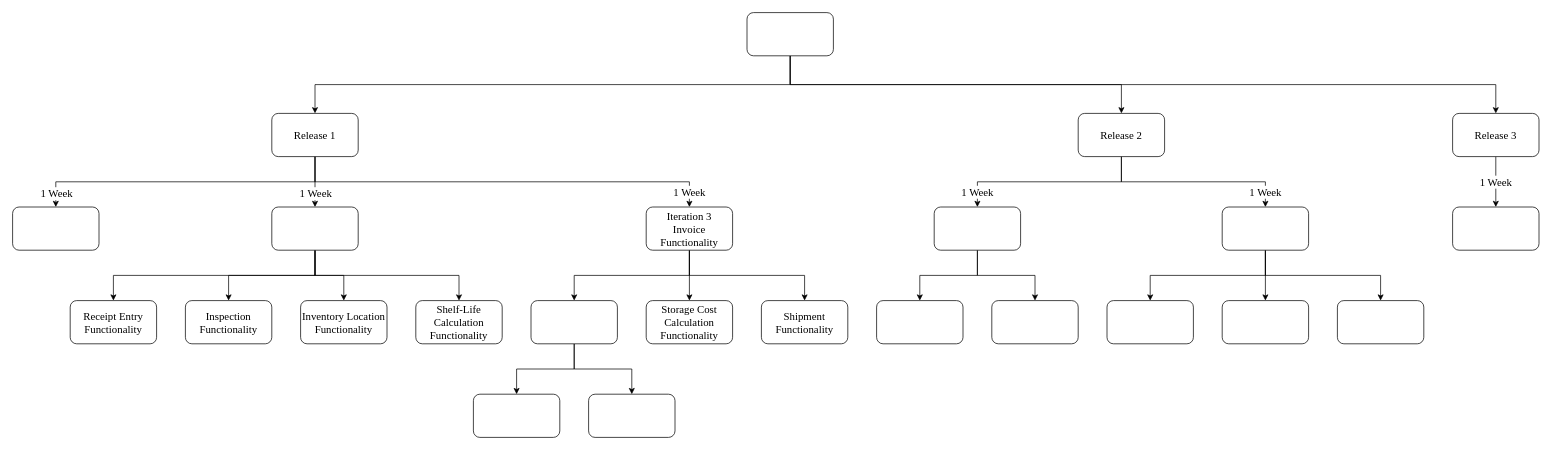
Image size: 1552x450. Some labels were removed from this diagram. Each missing label, with the box of its shape:
A & C WMS: (746, 12, 833, 56)
Iteration 1 Sign up/ Login Functionality: (12, 206, 99, 250)
Iteration 2 Receipt Functionality: (271, 206, 358, 250)
Order Creating Functionality: (530, 300, 617, 344)
